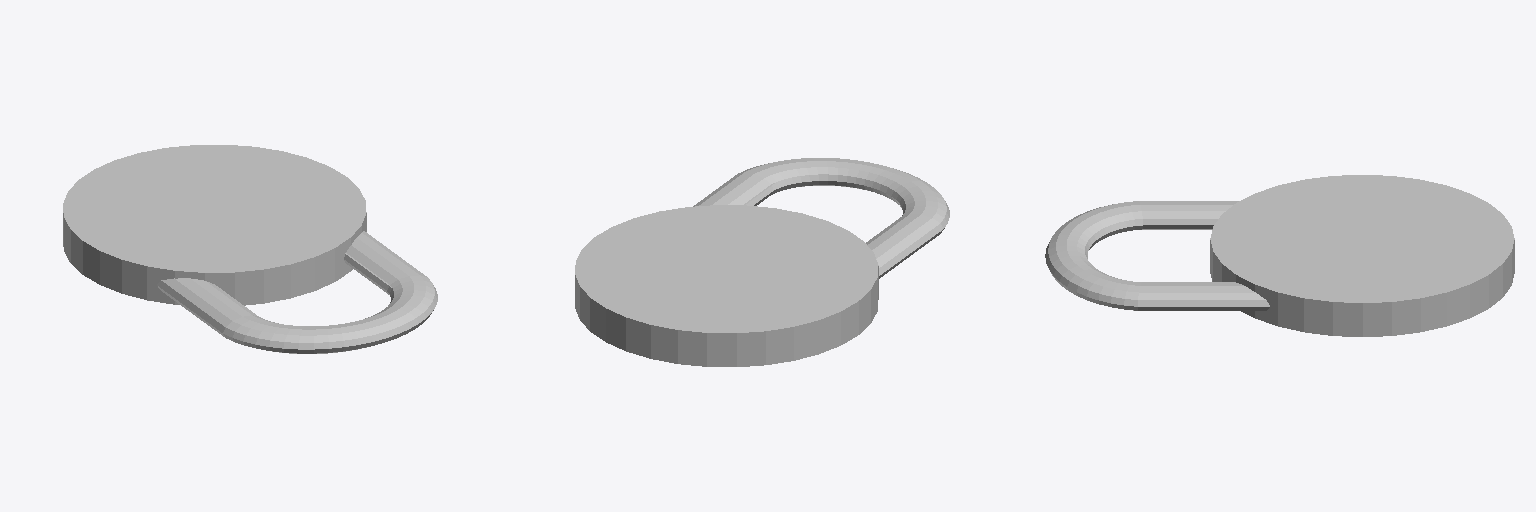
Rendered from padlock.obj.
3 views of the same model, side by side, from view 1: azimuth 30°, elevation 25°; view 2: azimuth 150°, elevation 25°; view 3: azimuth 270°, elevation 25° (orthographic).
Visible parts, largest first — view 1: Cylinder; view 2: Cylinder; view 3: Cylinder.
Part boxes in pixels (bbox=[...]): Cylinder: bbox=[63, 145, 437, 353]; Cylinder: bbox=[575, 158, 949, 366]; Cylinder: bbox=[1045, 175, 1514, 336].
Bounding box in the file's own units: 2 × 0.2469 × 3.08.